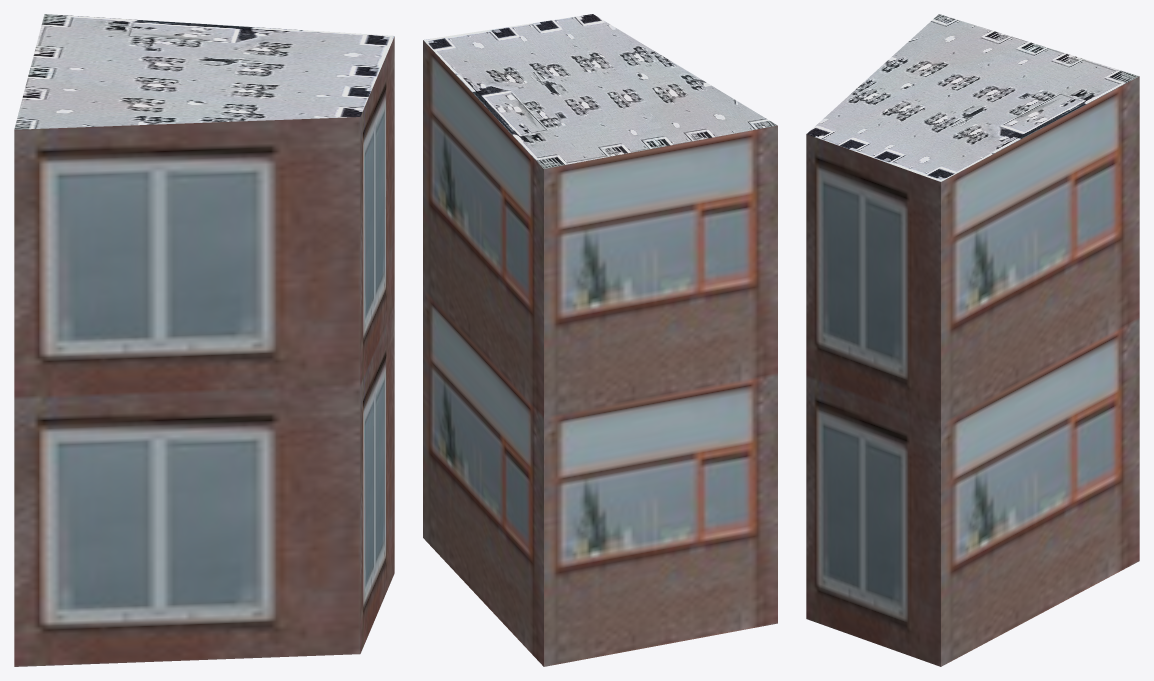
File: ResTex__1160.fbx
3 views of the same model, side by side, from view 1: azimuth 30°, elevation 25°; view 2: azimuth 150°, elevation 25°; view 3: azimuth 270°, elevation 25° (orthographic). The views are drawn at different scales.
Visible parts, largest first — view 1: CityEngineMaterial_19_m, CityEngineMaterial_15_m; view 2: CityEngineMaterial_19_m, CityEngineMaterial_15_m; view 3: CityEngineMaterial_19_m, CityEngineMaterial_15_m.
Part boxes in pixels (box(x1,y1,x2,y2)): CityEngineMaterial_19_m: box(14, 37, 394, 666); CityEngineMaterial_15_m: box(14, 14, 394, 129); CityEngineMaterial_19_m: box(423, 40, 777, 666); CityEngineMaterial_15_m: box(423, 14, 777, 168); CityEngineMaterial_19_m: box(806, 76, 1139, 666); CityEngineMaterial_15_m: box(806, 14, 1138, 181).
Size of the model in its own units: 4.46 by 6 by 3.74.
Materials: 2 (2 with a texture image).
